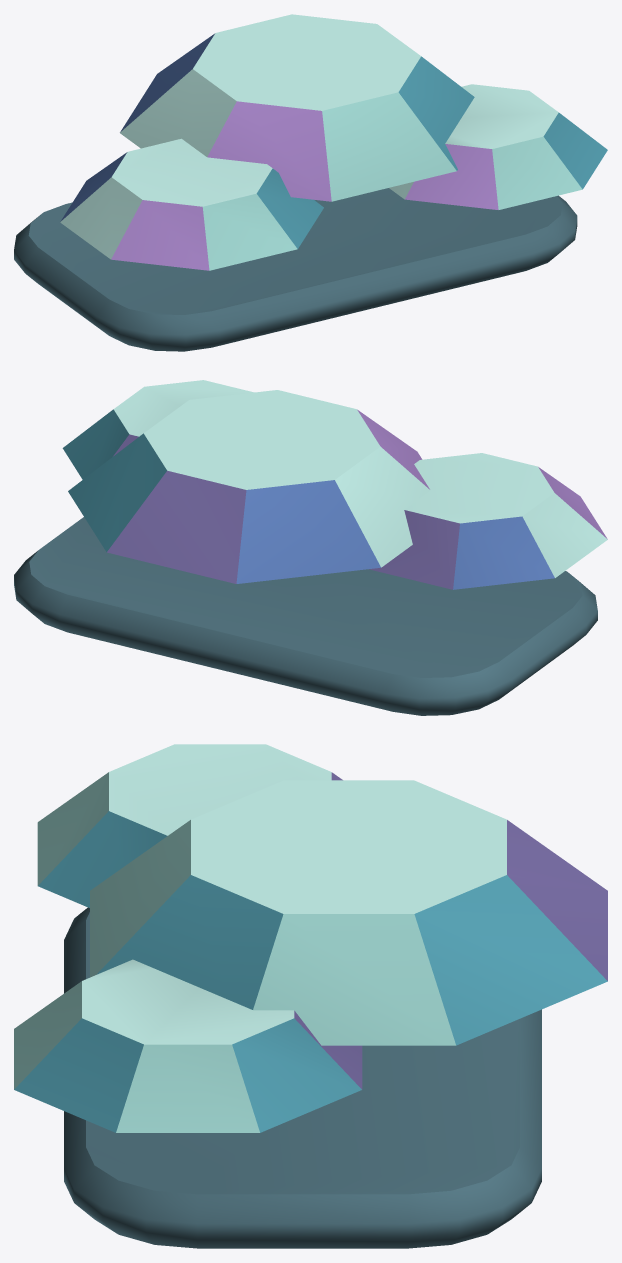
Rendered from gems.glb.
3 views of the same model, one above another, from view 1: azimuth 30°, elevation 25°; view 2: azimuth 150°, elevation 25°; view 3: azimuth 270°, elevation 25° (orthographic). The views are drawn at different scales.
Parts seen in each view (by area): view 1: gems; view 2: gems; view 3: gems.
Boxes of the visible parts, x1,y1,x2,y2 form: gems: [14, 14, 607, 351]; gems: [14, 380, 607, 715]; gems: [14, 744, 607, 1248].
Bounding box in the file's own units: 1.82 × 0.6243 × 1.29.
